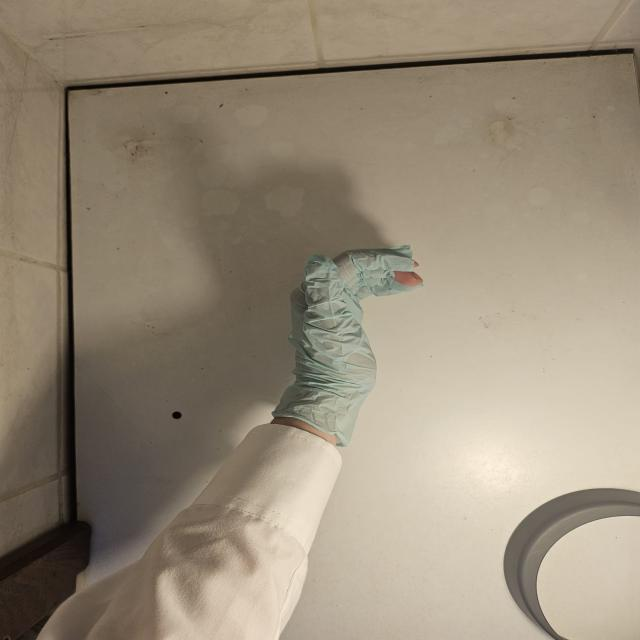gloves_damaged: (264, 238, 426, 452)
